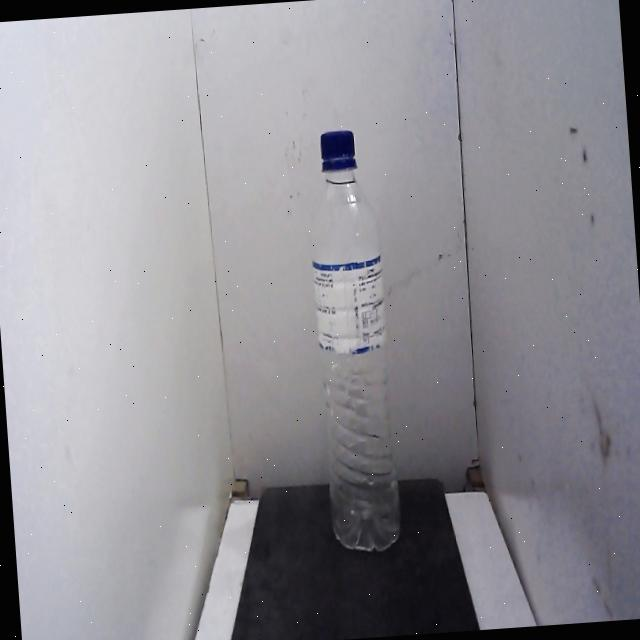plastico: (292, 117, 412, 562)
